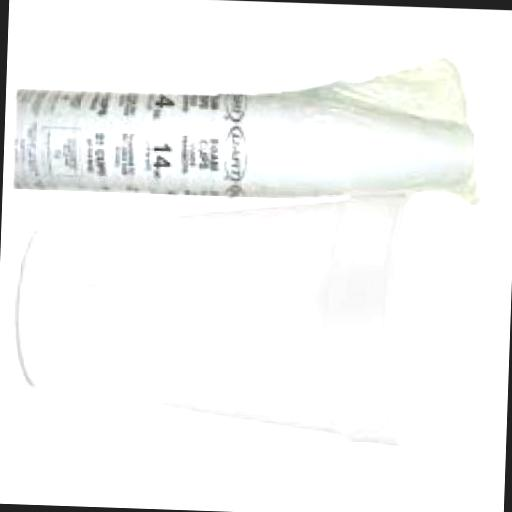paper: (14, 180, 440, 446), (16, 76, 480, 199)
